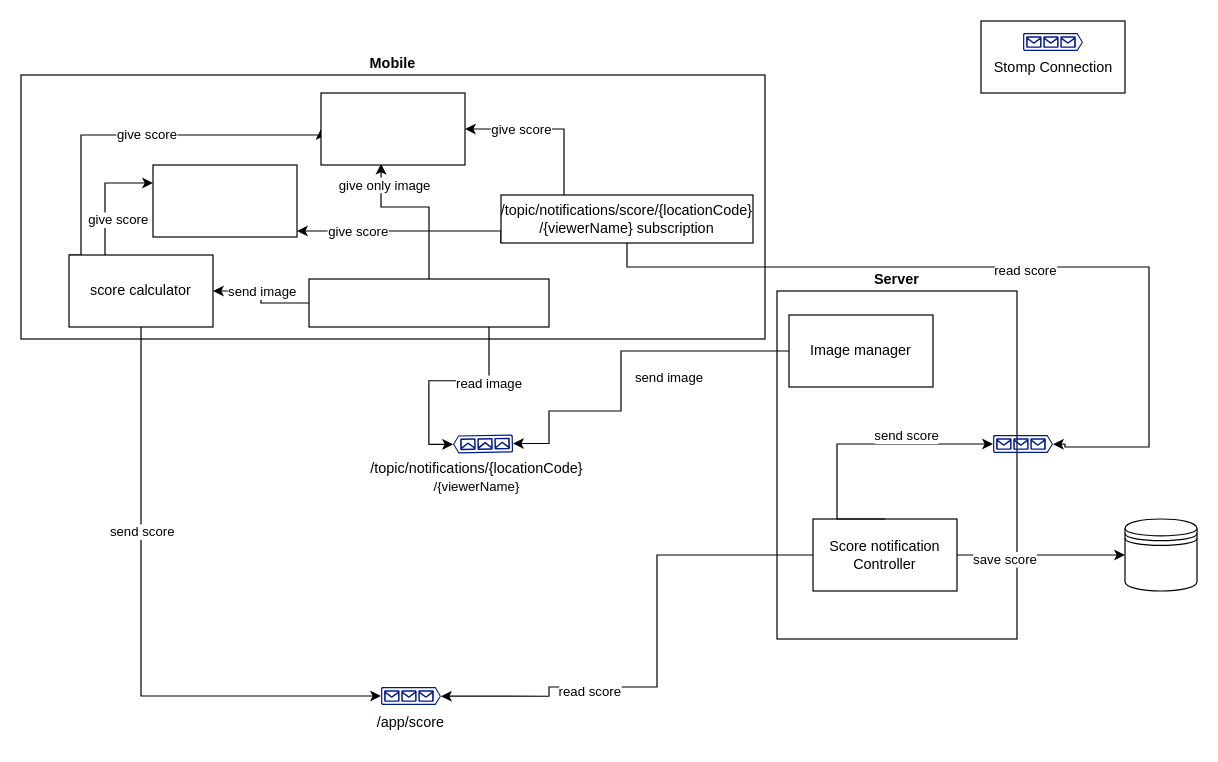
Some shapes in this 1218 by 762 pixel diagram are drawn without their labels. The shapes that lost their labels are listed below. From the top down, each one's centre as x and y in pixels, then its label:
(x=392, y=128): show Image with score and historic CC
(x=224, y=200): Show current diagram
(x=428, y=302): /topic/notifications/{locationCode} /{viewerName} subscription
